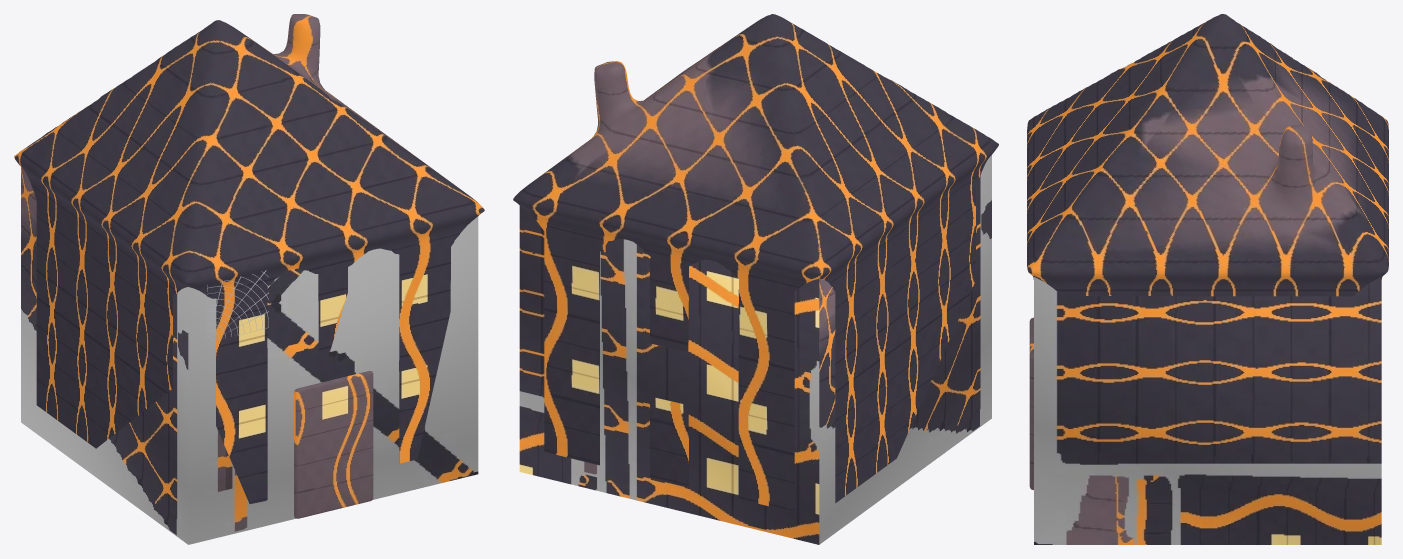
Rendered from house_lava.glb.
3 renders of one model, left to right at view 1: azimuth 30°, elevation 25°; view 2: azimuth 150°, elevation 25°; view 3: azimuth 270°, elevation 25°, orthographic. The views are drawn at different scales.
Visible parts, largest first — view 1: lod0, col, door, cobweb; view 2: lod0, col; view 3: col, lod0, door.
Part boxes in pixels (x1=…): lod0: x1=14, y1=14, x2=484, y2=503; col: x1=21, y1=167, x2=478, y2=544; door: x1=294, y1=371, x2=373, y2=518; cobweb: x1=207, y1=270, x2=268, y2=340; lod0: x1=513, y1=14, x2=998, y2=512; col: x1=519, y1=155, x2=991, y2=544; col: x1=1034, y1=277, x2=1381, y2=544; lod0: x1=1027, y1=14, x2=1388, y2=296; door: x1=1029, y1=317, x2=1033, y2=489.
Size of what is drawn, in the model's own units: 7.28 by 9.87 by 7.28.
Materials: 2 (2 with a texture image).
